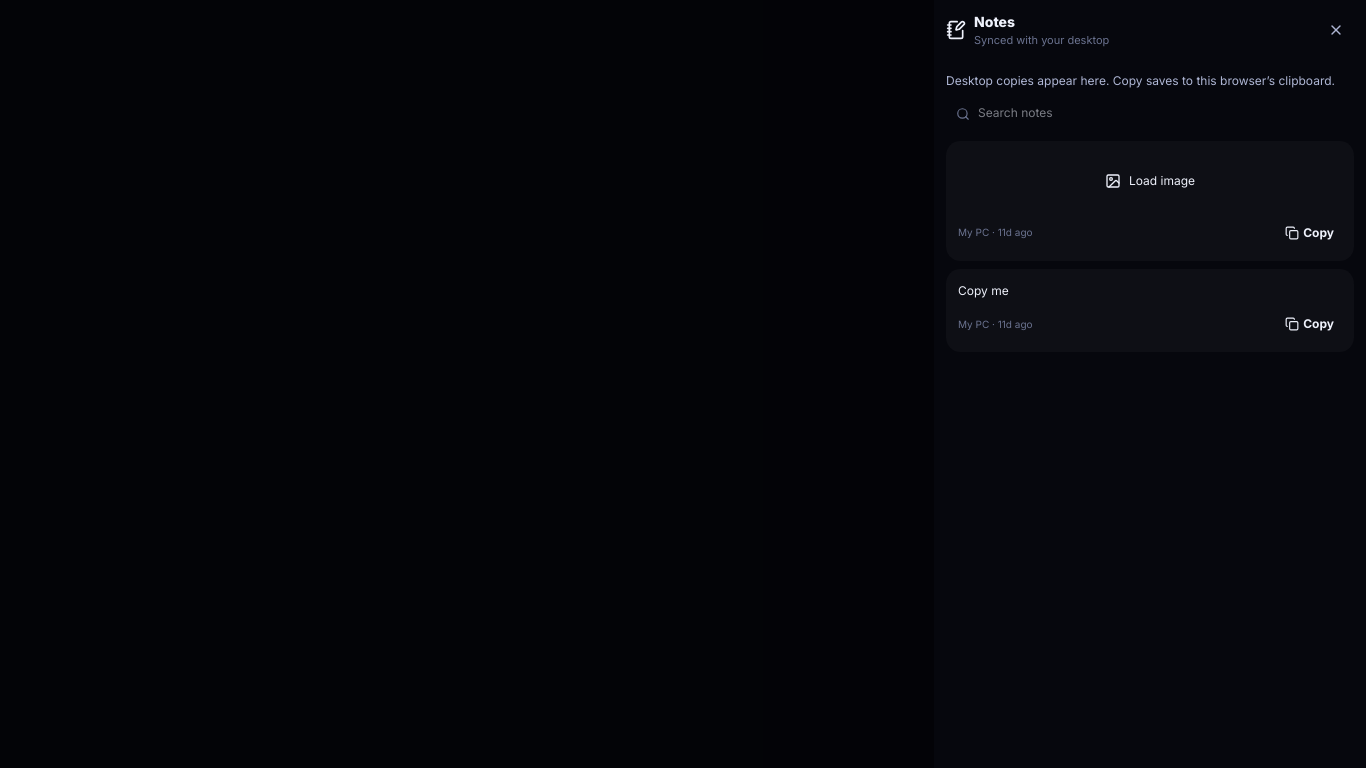
Test: keeps image loading usable when another note is copied during the download
Click the button "Load image".
click(1150, 180)  # box [958,152,1342,208]
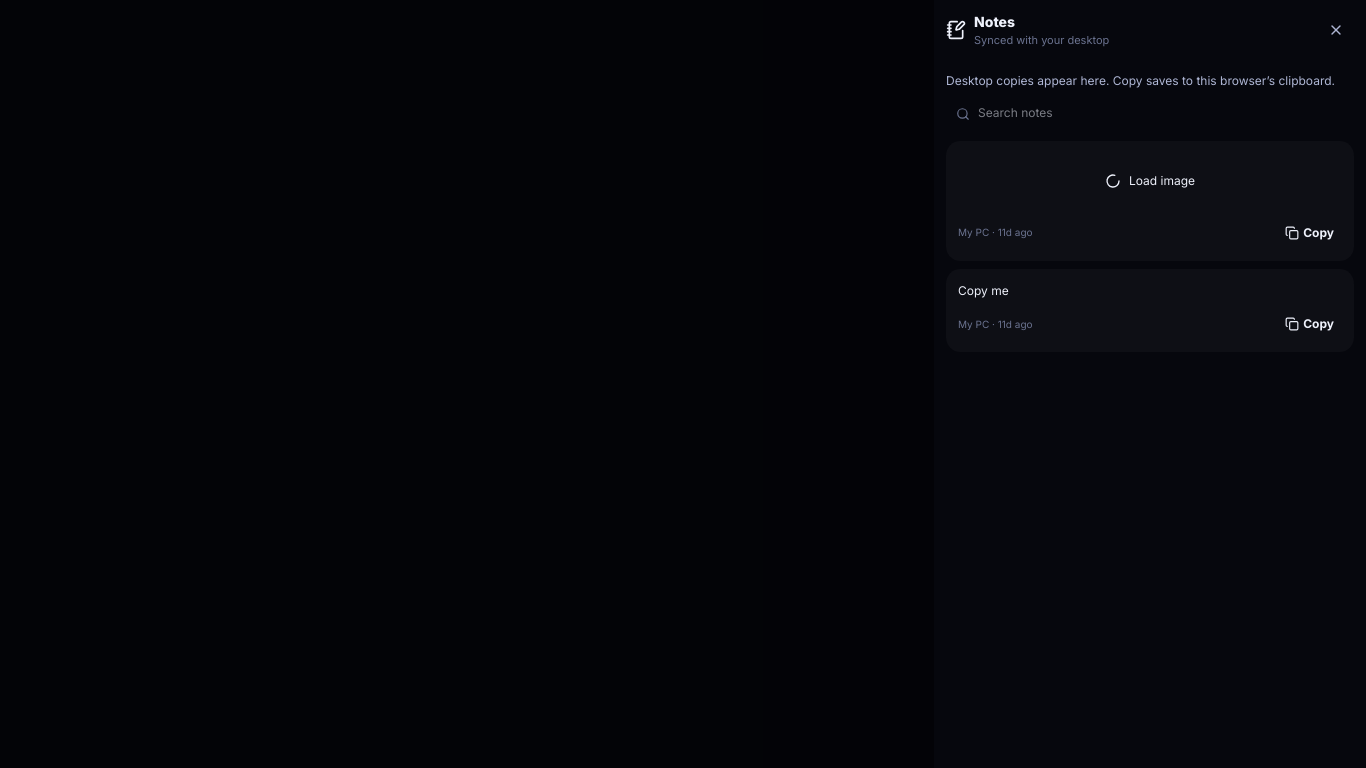
Click the button with aria-label "Copy note".
click(1310, 324)  # box [1277,308,1342,340]
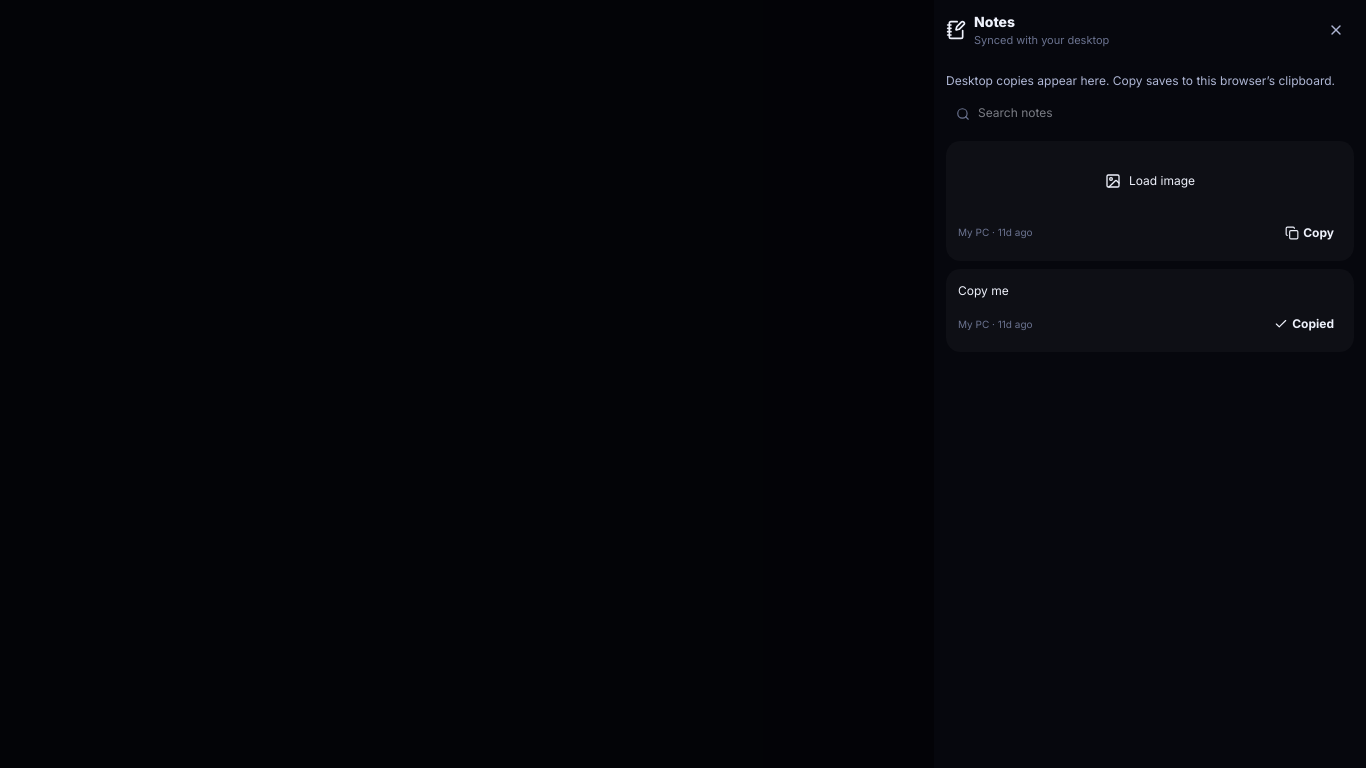
expect the button "Load image" is enabled: met, box [958,152,1342,208]
